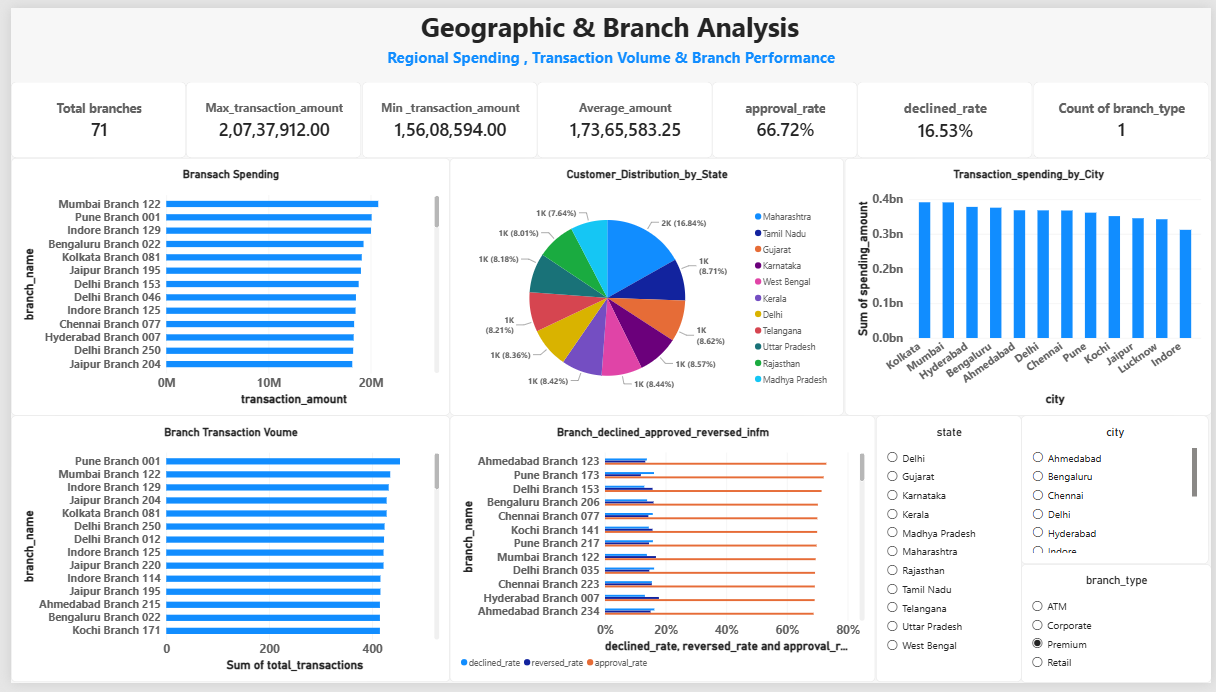

The dashboard page shown, as its layout file describes it:
{"tool":"powerbi","page":{"name":"Geographic & Analysis","canvas":[1920,1080],"ordinal":4},"visuals":[{"type":"cardVisual","fields":{"Data":["Count(public branches.branch_name)"]},"box":[0,117.5,280.5,122.3],"z":0},{"type":"cardVisual","fields":{"Data":["Max(public branch_transaction_spending.transaction_amount)"]},"box":[280.5,117.5,280.5,122.3],"z":1},{"type":"cardVisual","fields":{"Data":["Min(public branch_transaction_spending.transaction_amount)"]},"box":[561,117.5,280.5,122.3],"z":2},{"type":"cardVisual","fields":{"Data":["Avg(public branch_transaction_spending.transaction_amount)"]},"box":[841.6,117.5,280.5,122.3],"z":3},{"type":"cardVisual","fields":{"Data":["public branches.approval_rate"]},"box":[1122.1,117.5,232.6,122.3],"z":4},{"type":"cardVisual","fields":{"Data":["public branches.declined_rate"]},"box":[1354.7,117.5,280.5,122.3],"z":5},{"type":"cardVisual","fields":{"Data":["Count(public branches.branch_type)"]},"box":[1635.2,117.5,280.5,122.3],"z":6},{"type":"clusteredBarChart","title":"Bransach Spending","fields":{"Category":["public branch_transaction_spending.branch_name"],"Y":["Sum(public branch_transaction_spending.transaction_amount)"]},"box":[0,239.8,702.5,412.4],"z":7},{"type":"barChart","title":"Branch Transaction Voume","fields":{"Category":["public branch_transaction_volume.branch_name"],"Y":["Sum(public branch_transaction_volume.total_transactions)"]},"box":[0,652.2,702.5,426.8],"z":8},{"type":"clusteredBarChart","title":"Branch_declined_approved_reversed_infm","fields":{"Category":["public branches.branch_name"],"Y":["public branches.declined_rate","public branches.reversed_rate","public branches.approval_rate"]},"box":[702.5,652.2,680.9,426.8],"z":9},{"type":"pieChart","title":"Customer_Distribution_by_State","fields":{"Category":["public customer_distribution_by_state.state"],"Y":["Sum(public customer_distribution_by_state.total_customers)"]},"box":[702.5,239.8,630.6,412.4],"z":10},{"type":"clusteredColumnChart","title":"Transaction_spending_by_City","fields":{"Category":["public city_transactions_amount.city"],"Y":["Sum(public city_transactions_amount.spending_amount)"]},"box":[1333.1,239.8,587.4,412.4],"z":11},{"type":"listSlicer","fields":{"Values":["public branches.branch_type"]},"box":[1616,889.5,304.5,189.4],"z":12},{"type":"listSlicer","fields":{"Values":["public branches.city"]},"box":[1616,652.2,299.7,237.4],"z":13},{"type":"listSlicer","fields":{"Values":["public branches.state"]},"box":[1383.4,652.2,232.6,426.8],"z":14},{"type":"textbox","box":[0,0,1916.4,61.4],"z":16},{"type":"textbox","box":[0,61.4,1920.4,37.7],"z":18}]}

Visuals, with their boxes in screenshot pixels (x1, y1, x2, y2), scaled from the page's 1920x1080 canvas onto the 1216x692 screenshot:
cardVisual - Count(public branches.branch_name): bbox=[0, 75, 178, 154]
cardVisual - Max(public branch_transaction_spending.transaction_amount): bbox=[178, 75, 355, 154]
cardVisual - Min(public branch_transaction_spending.transaction_amount): bbox=[355, 75, 533, 154]
cardVisual - Avg(public branch_transaction_spending.transaction_amount): bbox=[533, 75, 711, 154]
cardVisual - public branches.approval_rate: bbox=[711, 75, 858, 154]
cardVisual - public branches.declined_rate: bbox=[858, 75, 1036, 154]
cardVisual - Count(public branches.branch_type): bbox=[1036, 75, 1213, 154]
"Bransach Spending" clusteredBarChart: bbox=[0, 154, 445, 418]
"Branch Transaction Voume" barChart: bbox=[0, 418, 445, 691]
"Branch_declined_approved_reversed_infm" clusteredBarChart: bbox=[445, 418, 876, 691]
"Customer_Distribution_by_State" pieChart: bbox=[445, 154, 844, 418]
"Transaction_spending_by_City" clusteredColumnChart: bbox=[844, 154, 1215, 418]
listSlicer - public branches.branch_type: bbox=[1023, 570, 1215, 691]
listSlicer - public branches.city: bbox=[1023, 418, 1213, 570]
listSlicer - public branches.state: bbox=[876, 418, 1023, 691]
textbox: bbox=[0, 0, 1214, 39]
textbox: bbox=[0, 39, 1215, 63]
